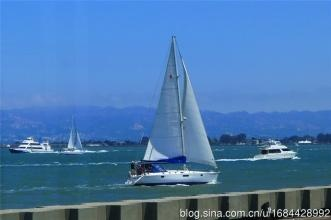fanchuan: (123, 32, 226, 189), (61, 118, 89, 154)
yacht: (253, 137, 299, 163), (5, 132, 53, 155)
